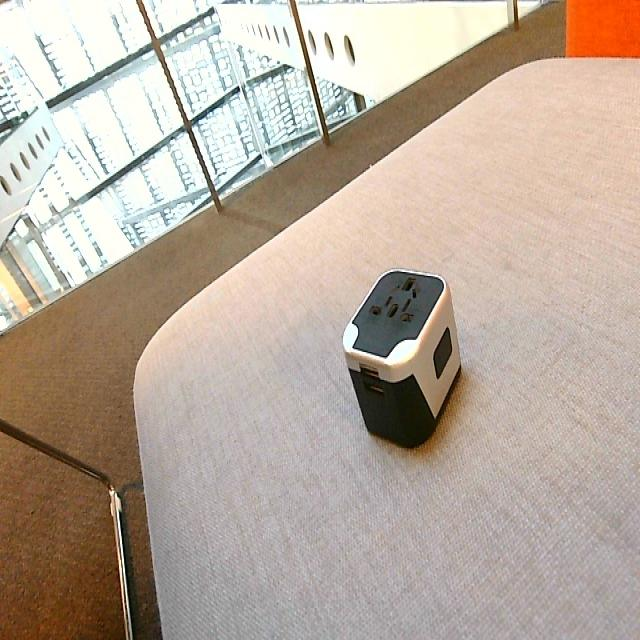adapter: (341, 265, 461, 448)
